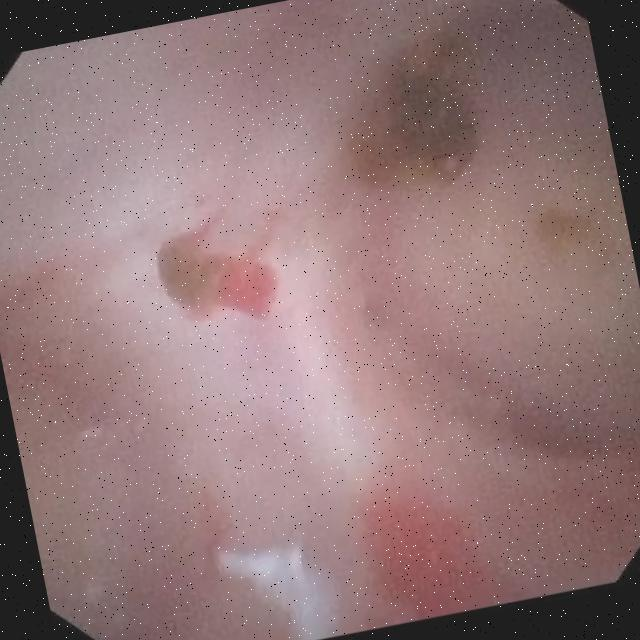stone-new: (392, 65, 477, 171), (157, 220, 225, 319)
